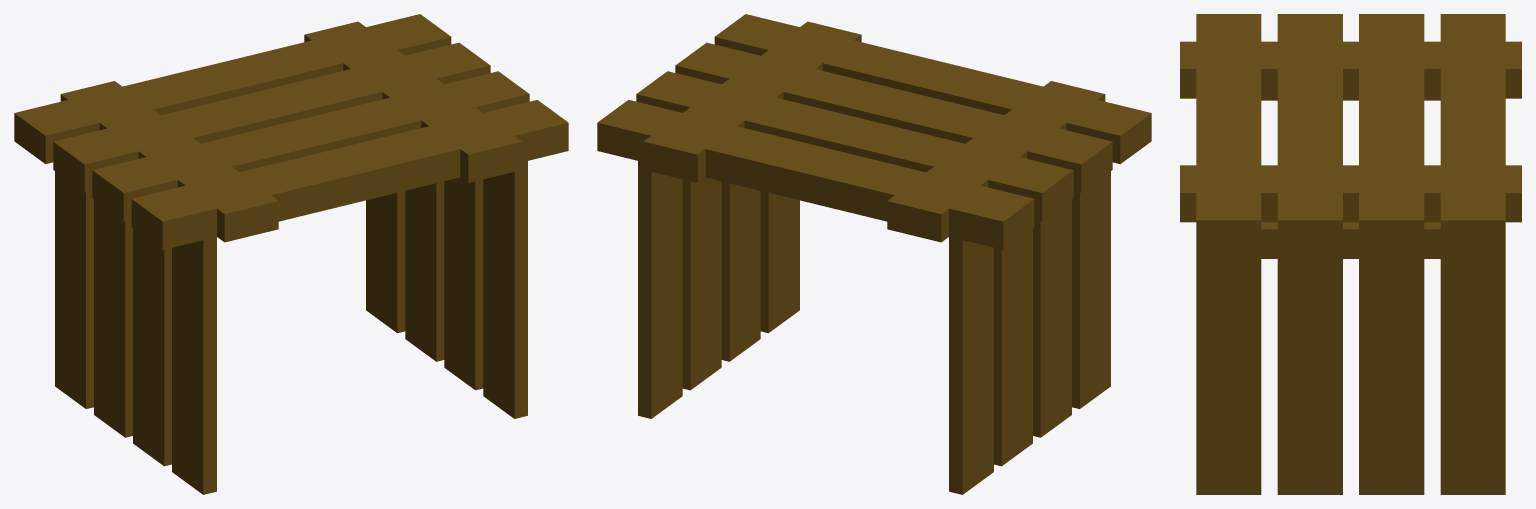
Rendered from table-0-Table.obj.
3 views of the same model, side by side, from view 1: azimuth 30°, elevation 25°; view 2: azimuth 150°, elevation 25°; view 3: azimuth 270°, elevation 25° (orthographic). The views are drawn at different scales.
Visible parts, largest first — view 1: Table; view 2: Table; view 3: Table.
Part boxes in pixels (x1,y1,x2,y2): Table: (14,14,568,494); Table: (597,14,1151,494); Table: (1180,14,1521,494).
Size of the model in its own units: 3 by 2 by 2.1.
1 material, 1 textured.
